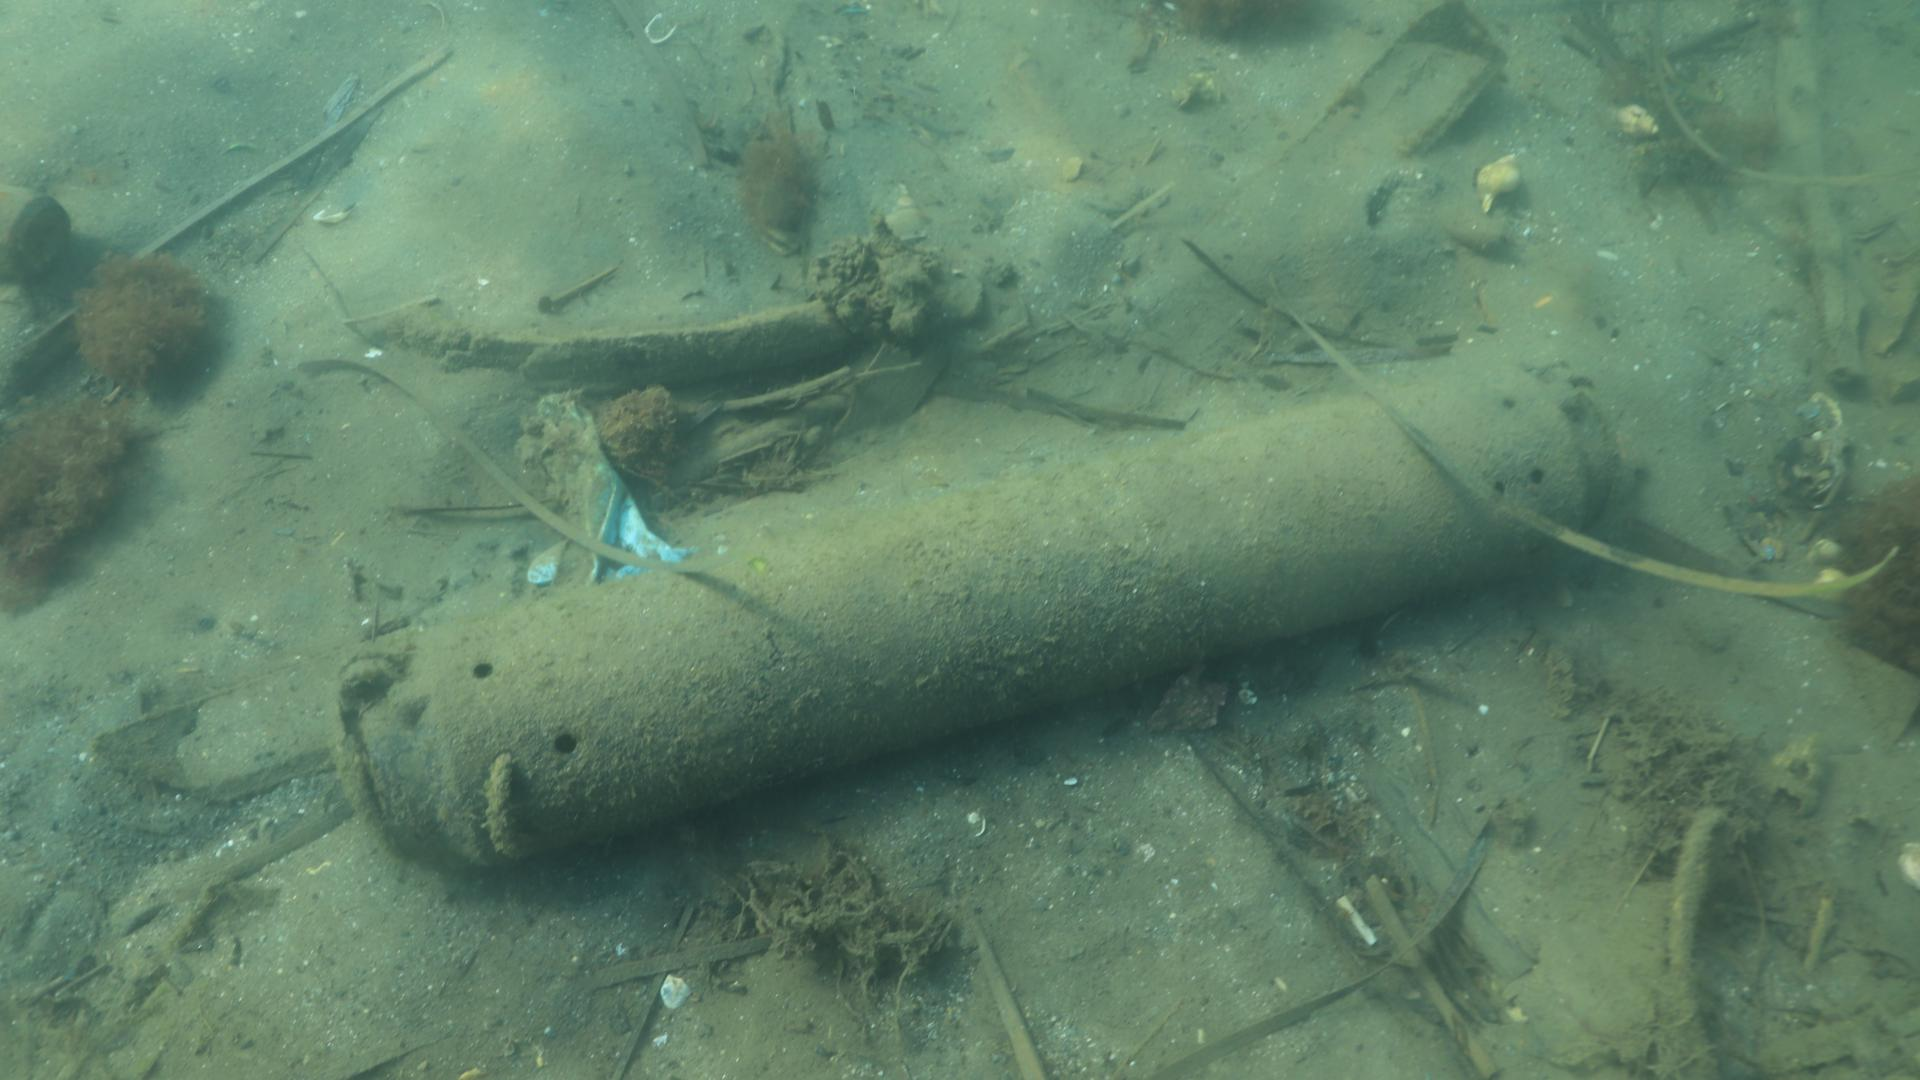eel fish trap: (338, 360, 1611, 876)
